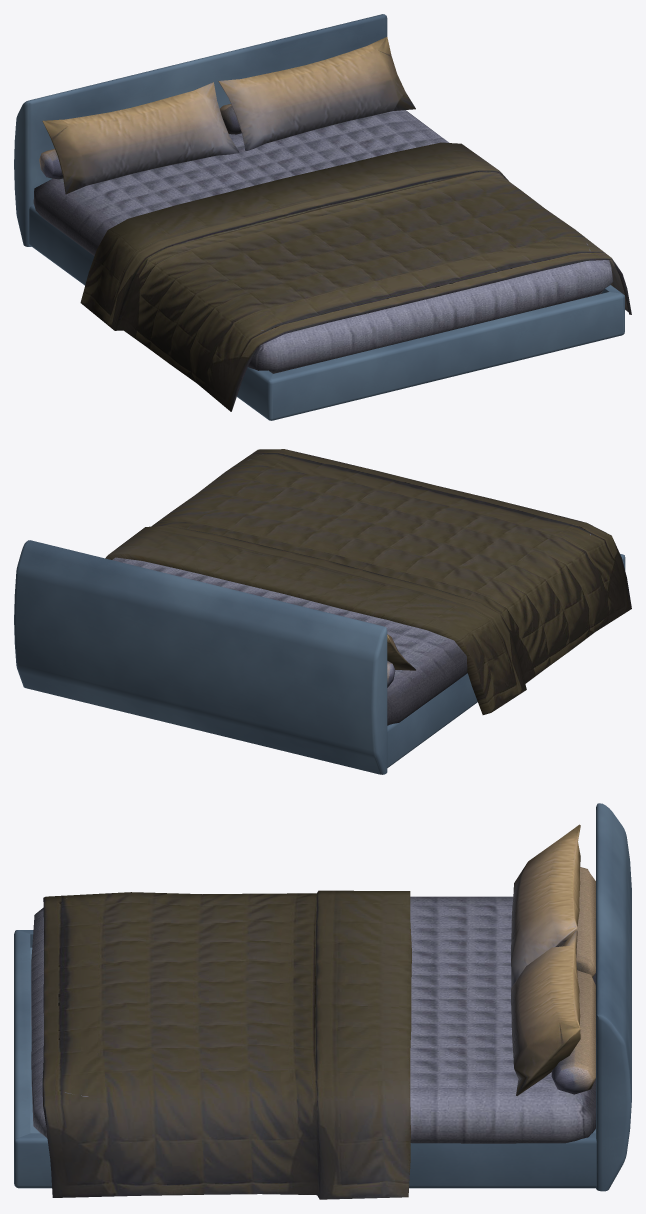
The model's file is Bed_3.fbx.
The picture shows the model from 3 angles, top to bottom: view 1: azimuth 30°, elevation 25°; view 2: azimuth 150°, elevation 25°; view 3: azimuth 270°, elevation 25°; orthographic projection. The views are drawn at different scales.
Visible parts, largest first — view 1: mattres bed 01.003, Cube; view 2: mattres bed 01.003, Cube; view 3: mattres bed 01.003, Cube.
Boxes of the visible parts, x1,y1,x2,y2 form: mattres bed 01.003: [33, 37, 631, 411]; Cube: [14, 14, 624, 420]; mattres bed 01.003: [105, 449, 631, 725]; Cube: [14, 540, 625, 774]; mattres bed 01.003: [31, 824, 595, 1199]; Cube: [14, 803, 631, 1191].
Bounding box in the file's own units: 211 × 71.02 × 226.
Materials: 2 (2 with a texture image).
